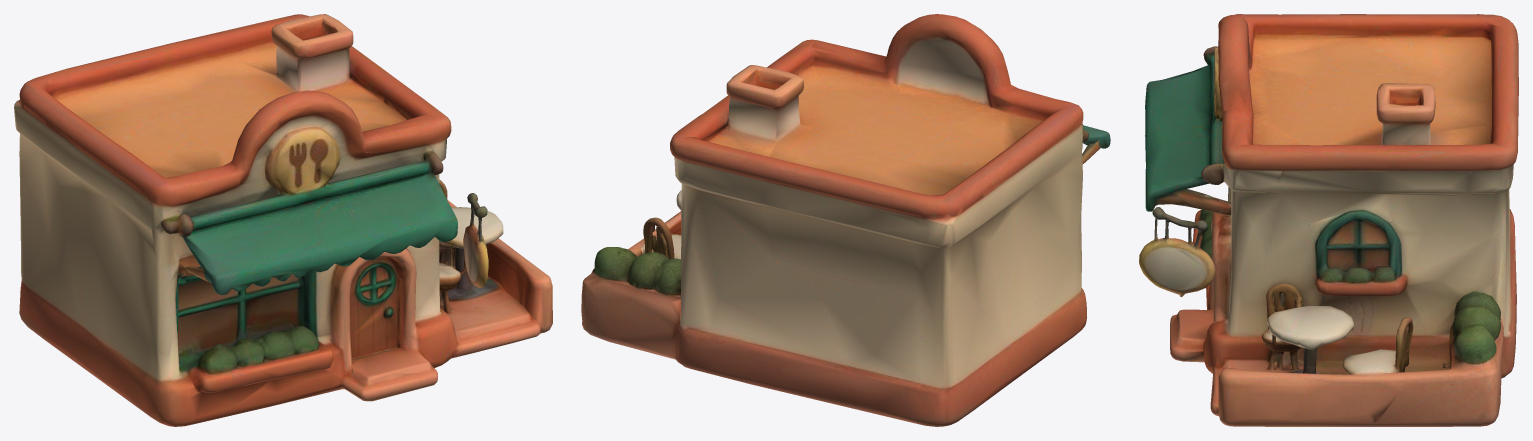
File: building-restaurant.glb
3 views of the same model, side by side, from view 1: azimuth 30°, elevation 25°; view 2: azimuth 150°, elevation 25°; view 3: azimuth 270°, elevation 25° (orthographic). The views are drawn at different scales.
Visible parts, largest first — view 1: Mesh_0; view 2: Mesh_0; view 3: Mesh_0.
Boxes of the visible parts, bbox=[...] form: Mesh_0: bbox=[14, 14, 552, 426]; Mesh_0: bbox=[581, 14, 1110, 426]; Mesh_0: bbox=[1139, 14, 1518, 426].
Size of the model in its own units: 2 by 1.43 by 1.7.
Materials: 1 (1 with a texture image).
